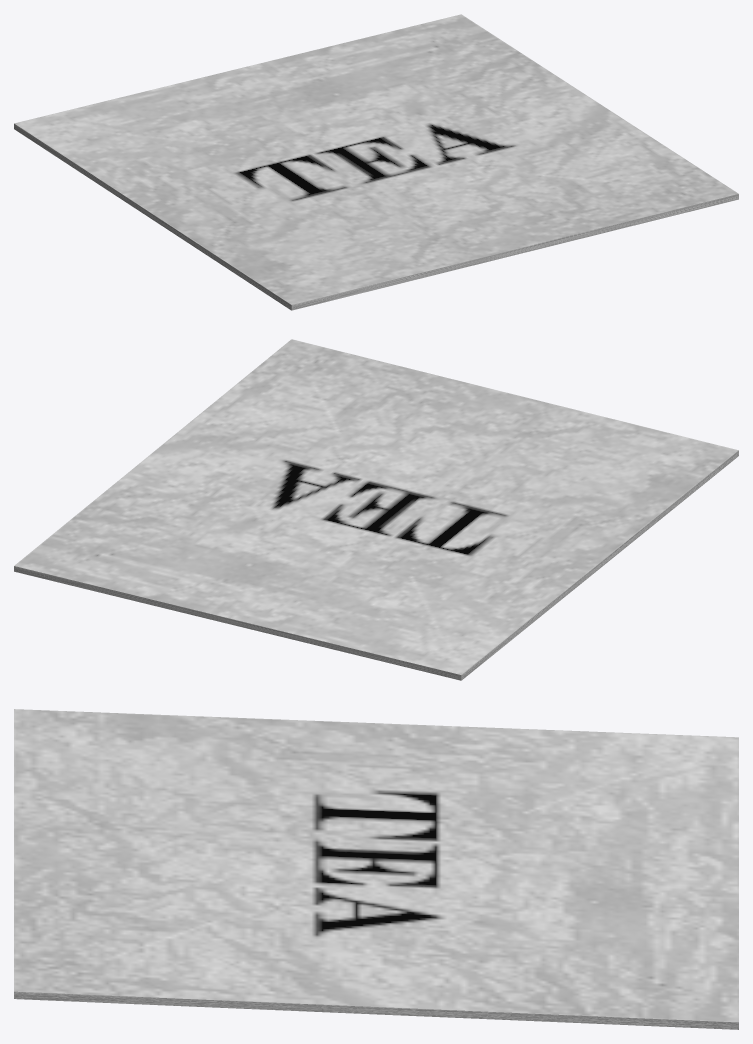
File: tea note.FBX
3 renders of one model, top to bottom at view 1: azimuth 30°, elevation 25°; view 2: azimuth 150°, elevation 25°; view 3: azimuth 270°, elevation 25°, orthographic. The views are drawn at different scales.
Parts seen in each view (by area): view 1: Object001, Box001; view 2: Object001, Box001; view 3: Object001, Box001.
Boxes of the visible parts, box(x1,y1,x2,y2) form: Object001: box(14, 14, 738, 304); Box001: box(14, 123, 738, 310); Object001: box(14, 339, 738, 674); Box001: box(14, 450, 738, 680); Object001: box(14, 709, 738, 1022); Box001: box(14, 991, 738, 1029).
Size of the model in its own units: 93.22 by 5.83 by 100.
Materials: 2 (2 with a texture image).
